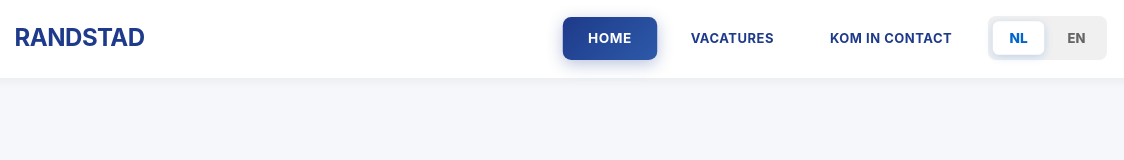
Header › switches navigation labels to English when EN is clicked
Click the button "EN" at (1076, 38), box [1052,22,1101,54]
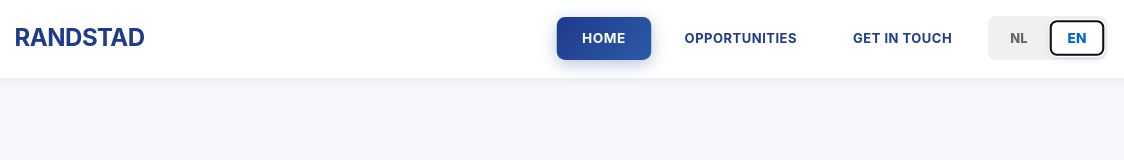
Now the link "Opportunities" is shown, box [685,30,797,46]
Now the link "Vacatures" is gone
